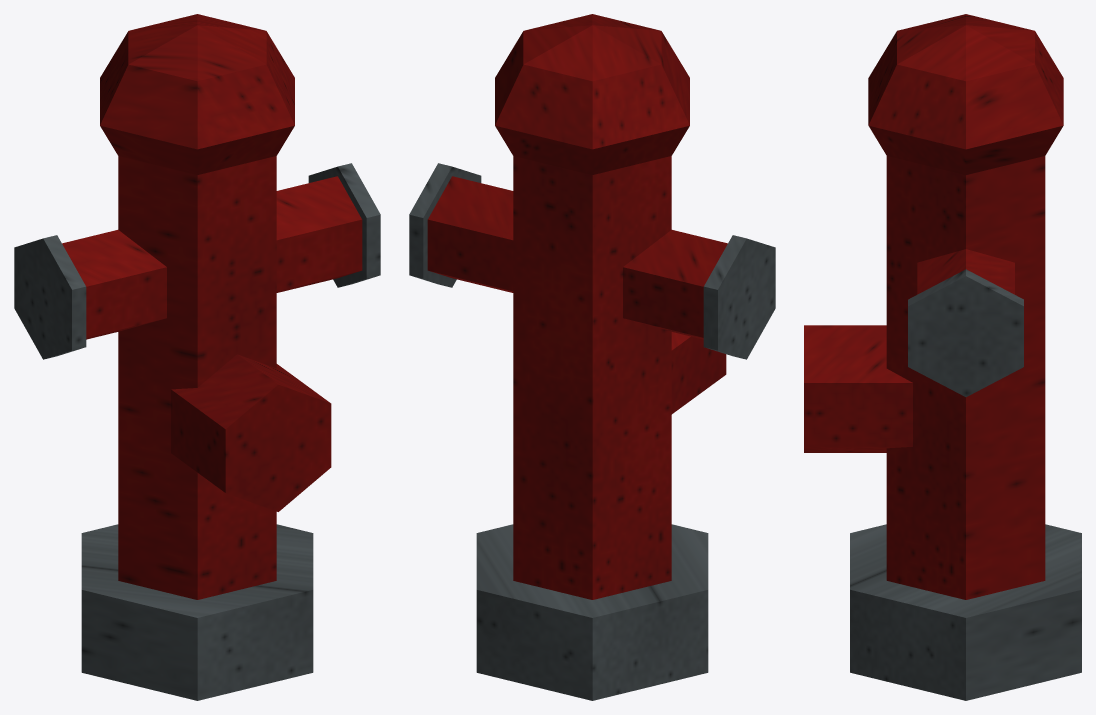
File: PROP-C17B2166B9A8_lod2.glb
3 views of the same model, side by side, from view 1: azimuth 30°, elevation 25°; view 2: azimuth 150°, elevation 25°; view 3: azimuth 270°, elevation 25° (orthographic).
Parts seen in each view (by area): view 1: hydrant_barrel.003, hydrant_base.003, hydrant_cap.003, front_nozzle.003, hose_nozzle.003, hose_cap.003; view 2: hydrant_barrel.003, hydrant_base.003, hydrant_cap.003, hose_nozzle.003, hose_cap.003, front_nozzle.003; view 3: hydrant_barrel.003, hydrant_base.003, hydrant_cap.003, front_nozzle.003, hose_cap.003, hose_nozzle.003.
Boxes of the visible parts, box(x1,y1,x2,y2) form: hydrant_barrel.003: box(118, 156, 276, 599); hydrant_base.003: box(81, 524, 313, 700); hydrant_cap.003: box(100, 14, 294, 174); front_nozzle.003: box(171, 354, 331, 511); hose_nozzle.003: box(62, 176, 362, 339); hose_cap.003: box(14, 163, 380, 359); hydrant_barrel.003: box(513, 156, 671, 599); hydrant_base.003: box(476, 524, 708, 700); hydrant_cap.003: box(495, 14, 689, 174); hose_nozzle.003: box(427, 176, 727, 339); hose_cap.003: box(409, 163, 775, 359); front_nozzle.003: box(671, 332, 726, 414); hydrant_barrel.003: box(886, 156, 1045, 599); hydrant_base.003: box(850, 524, 1081, 700); hydrant_cap.003: box(868, 14, 1063, 174); front_nozzle.003: box(804, 325, 912, 452); hose_cap.003: box(908, 269, 1023, 396); hose_nozzle.003: box(917, 249, 1014, 294).
Size of the model in its own units: 0.506 by 0.97 by 0.3945.
Materials: 2 (2 with a texture image).
